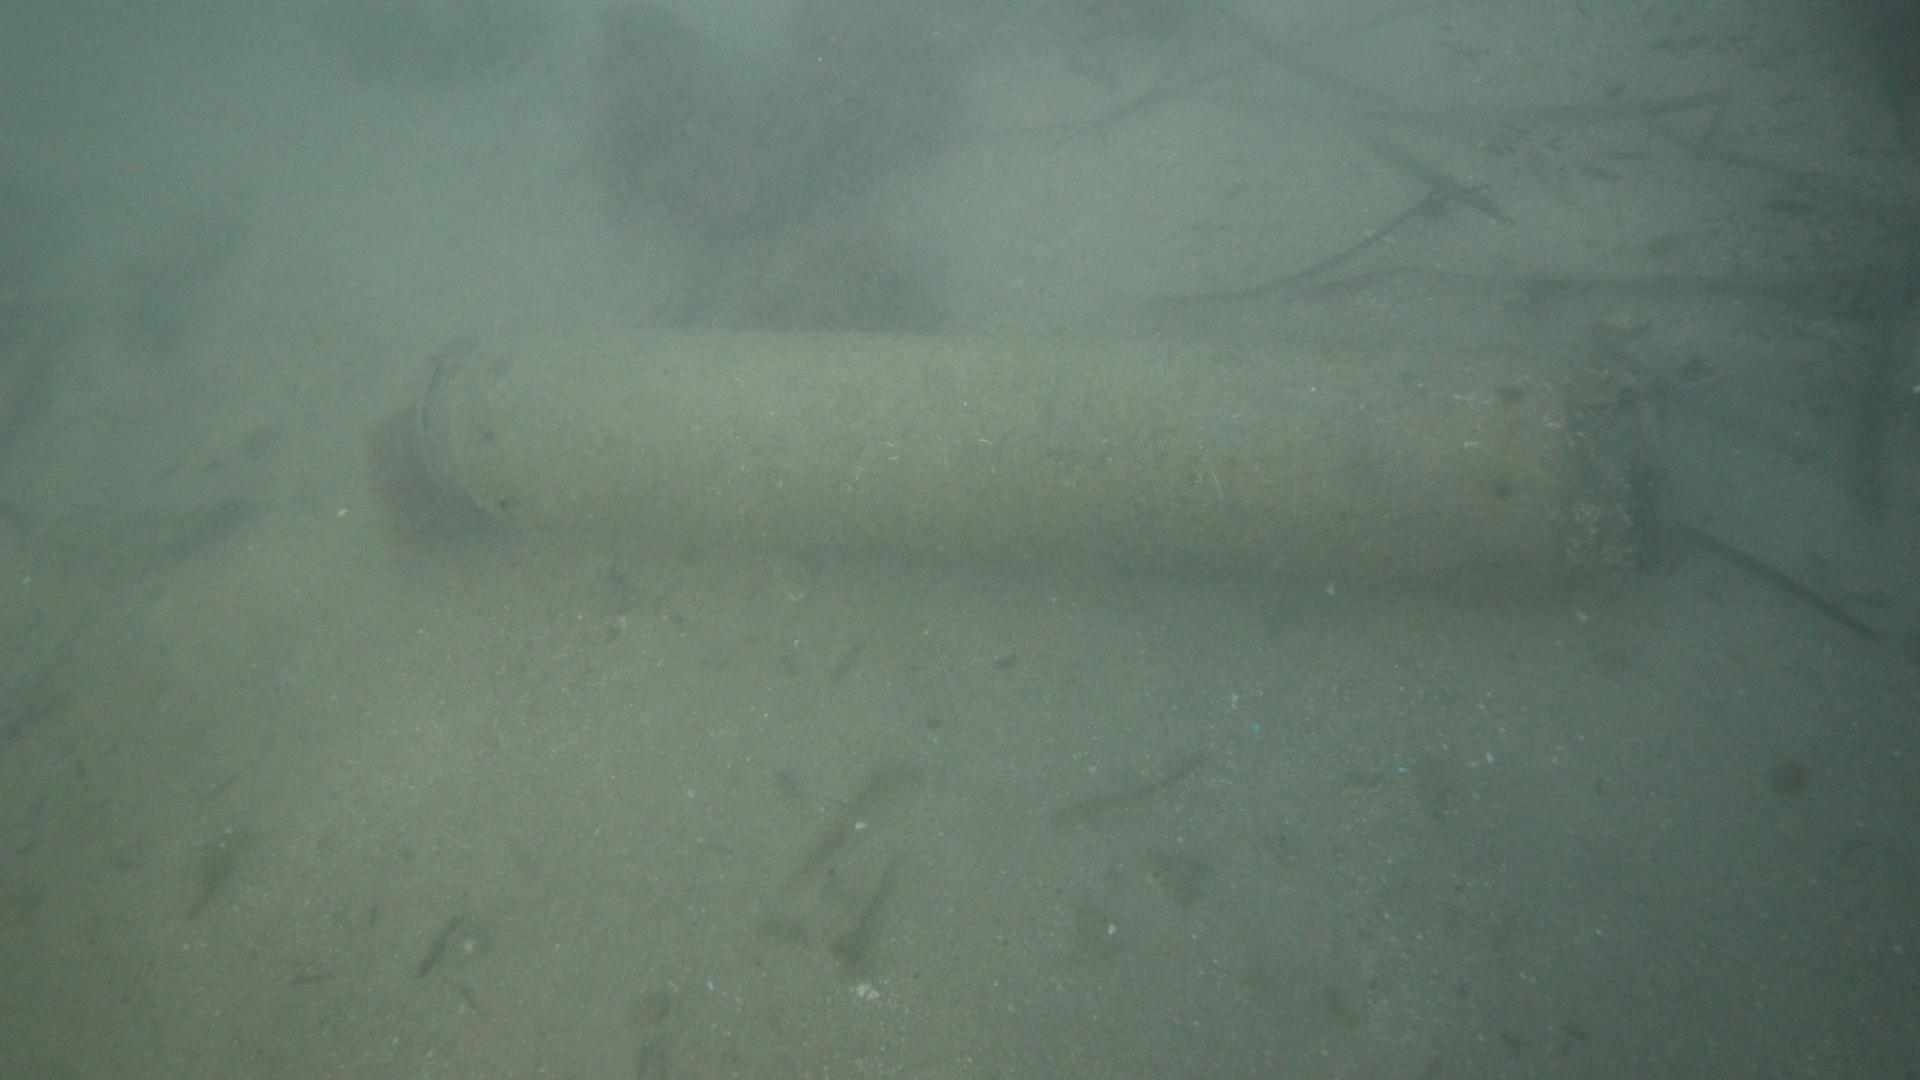eel fish trap: (407, 320, 1669, 578)
